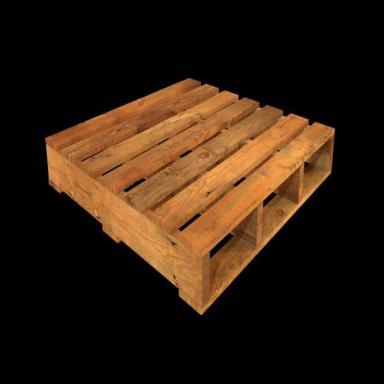pallet: (45, 78, 335, 316)
